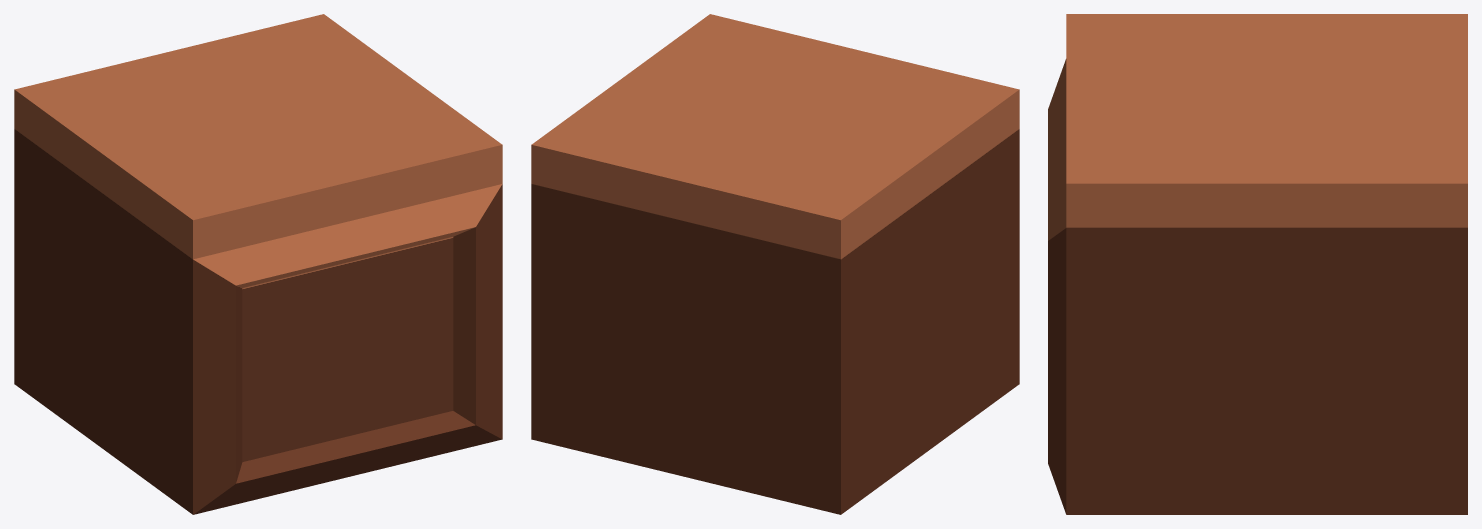
File: baseBlock_asset.fbx
The picture shows the model from 3 angles, left to right: view 1: azimuth 30°, elevation 25°; view 2: azimuth 150°, elevation 25°; view 3: azimuth 270°, elevation 25°; orthographic projection. The views are drawn at different scales.
Parts seen in each view (by area): view 1: Cube.164; view 2: Cube.164; view 3: Cube.164.
Boxes of the visible parts, bbox=[...] form: Cube.164: bbox=[14, 14, 502, 514]; Cube.164: bbox=[531, 14, 1019, 514]; Cube.164: bbox=[1048, 14, 1467, 514].
Bounding box in the file's own units: 97.97 × 89.17 × 102.
1 material, 1 textured.
